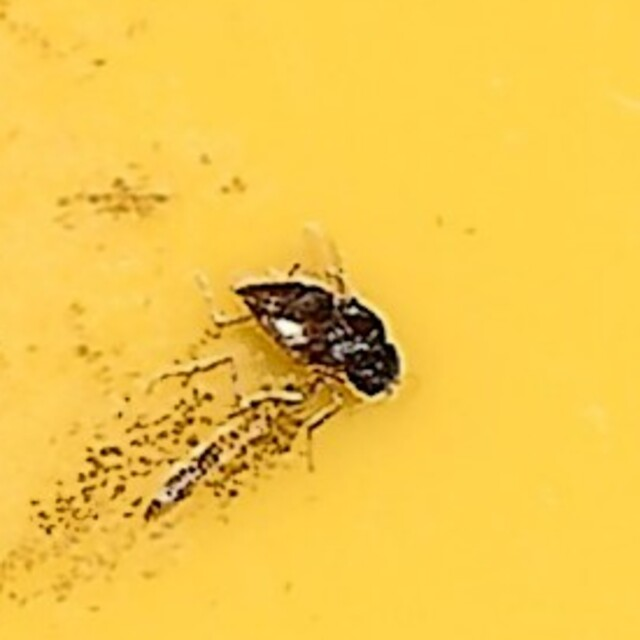Brachycera: (233, 235, 407, 405)
